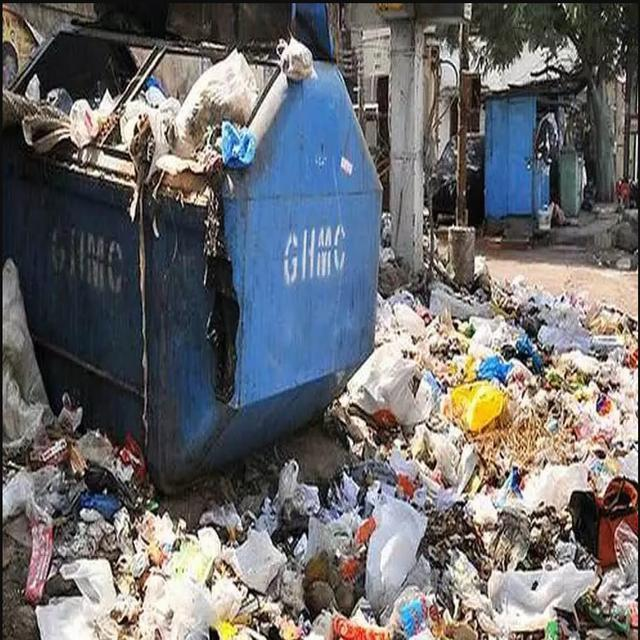garbage: (322, 242, 640, 510), (0, 507, 640, 640), (0, 46, 261, 205), (0, 258, 151, 506), (269, 30, 324, 86)
